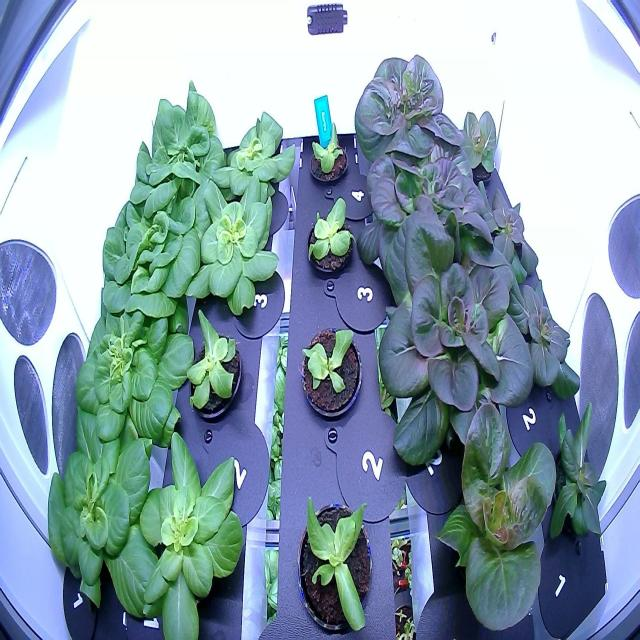young: (374, 182, 540, 482), (427, 383, 562, 640), (353, 110, 505, 305), (35, 394, 162, 626), (65, 270, 198, 468), (136, 426, 256, 640), (347, 44, 474, 220), (95, 161, 220, 325), (182, 166, 284, 320), (125, 75, 228, 216), (491, 256, 587, 407), (291, 484, 376, 638), (544, 389, 610, 564), (463, 162, 547, 299), (209, 102, 302, 208), (182, 302, 244, 426), (294, 321, 364, 421), (447, 94, 505, 187), (301, 189, 356, 278), (305, 112, 352, 192)
